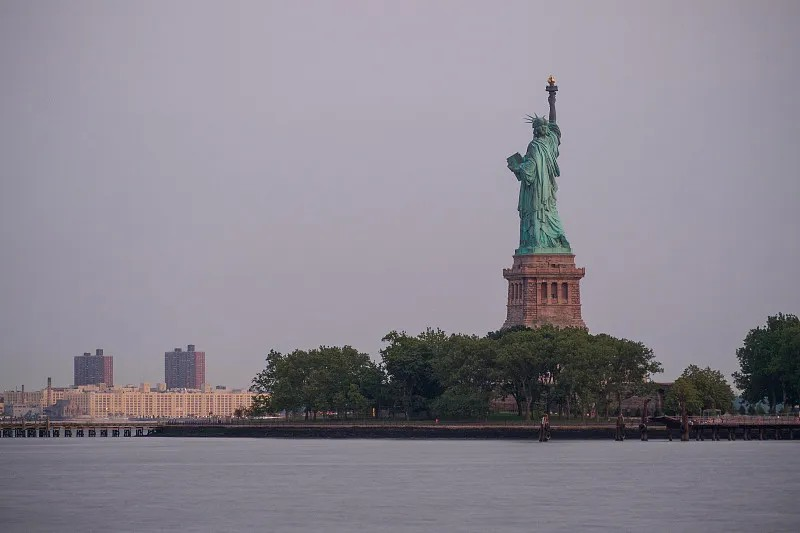SL: (501, 73, 589, 329)
